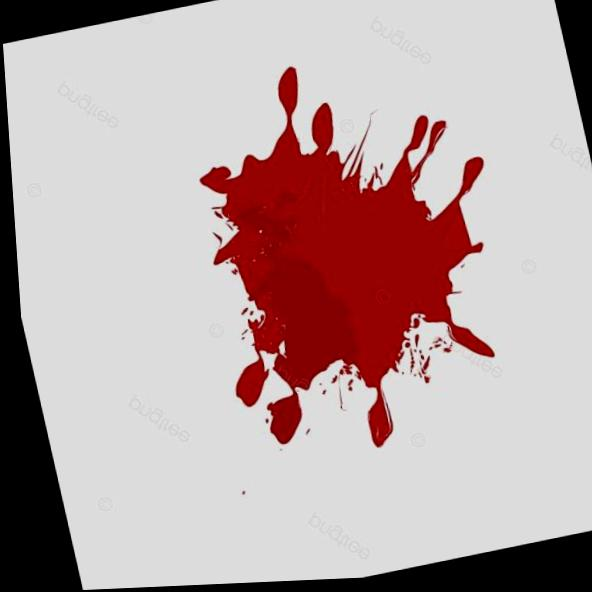Fire: (196, 69, 490, 451)
